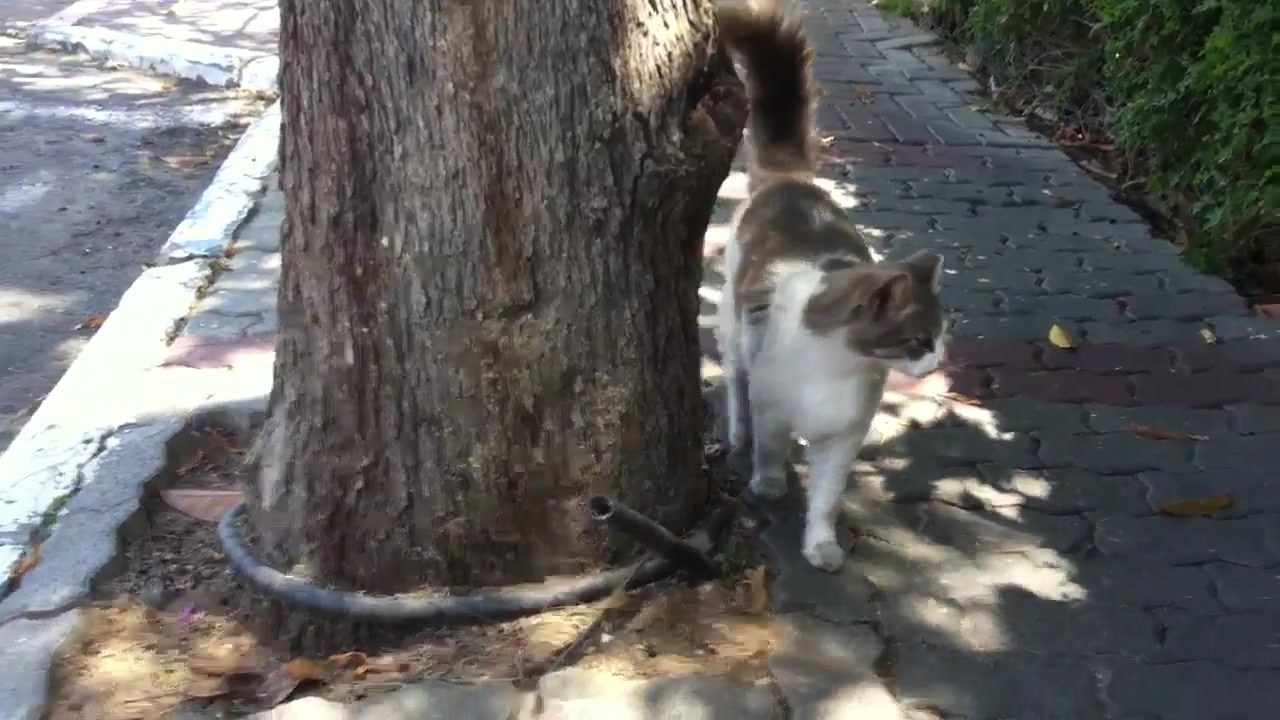cat: (708, 3, 944, 565)
